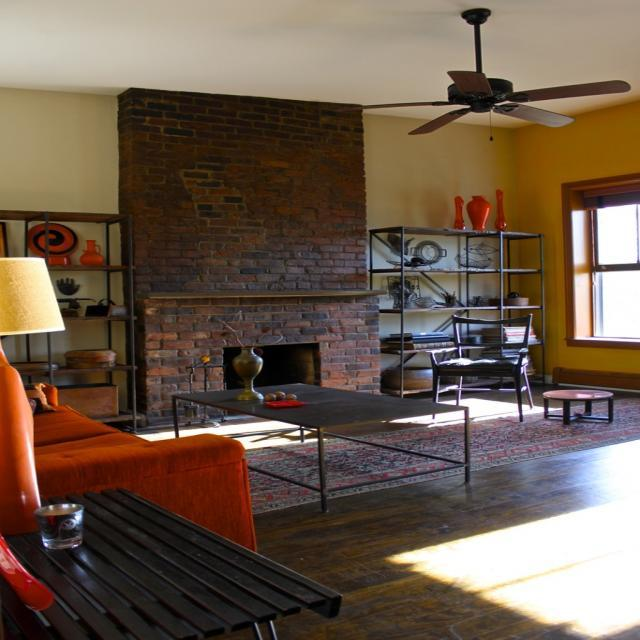fan_off: (328, 10, 631, 135)
